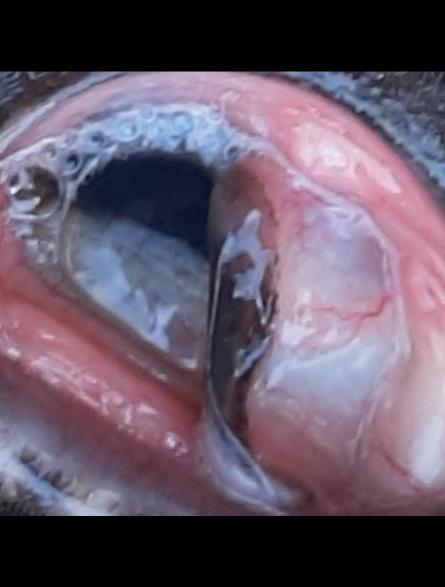eye_membrane: (36, 78, 445, 514), (0, 238, 182, 488)
